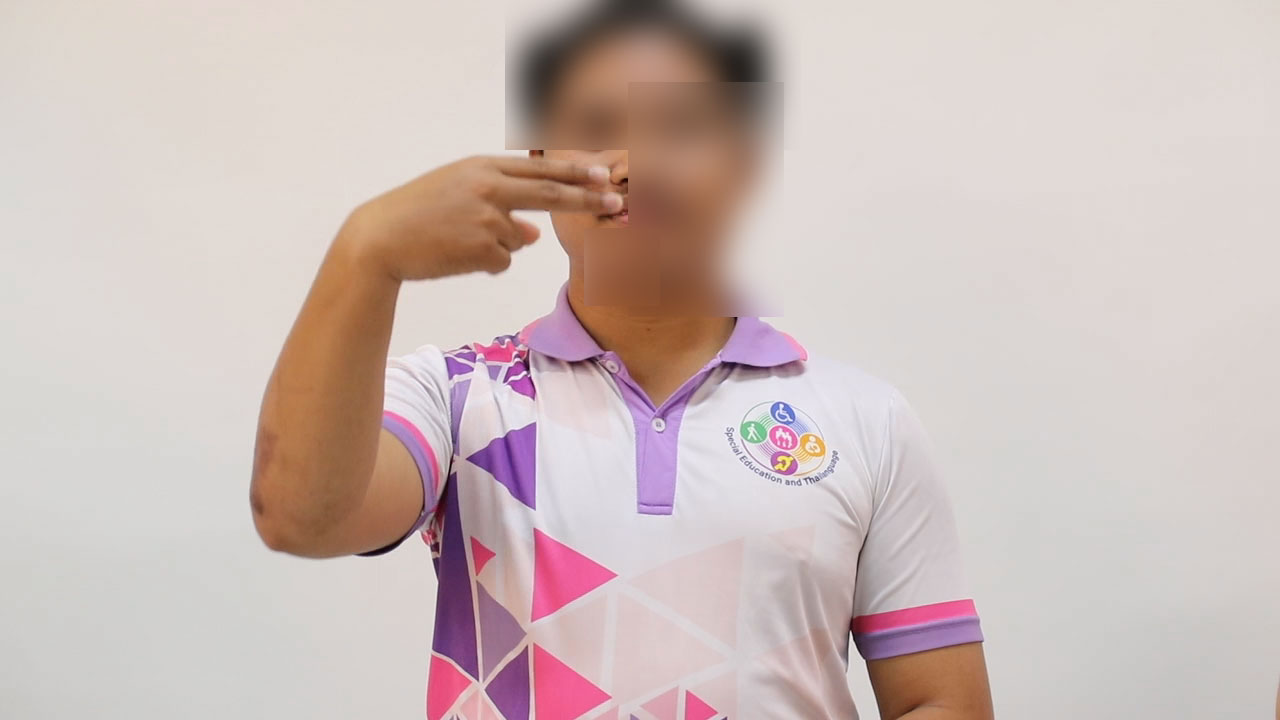hor: (338, 131, 631, 299)
